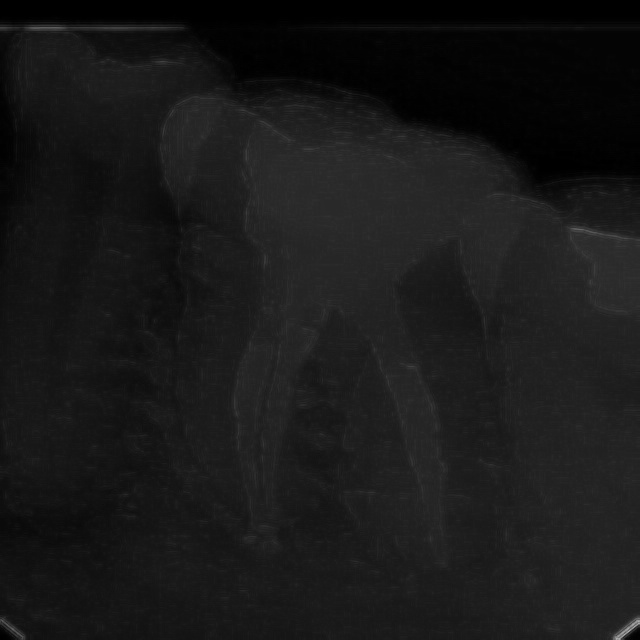Class 0- No endodontic treatment: (152, 74, 541, 601)
